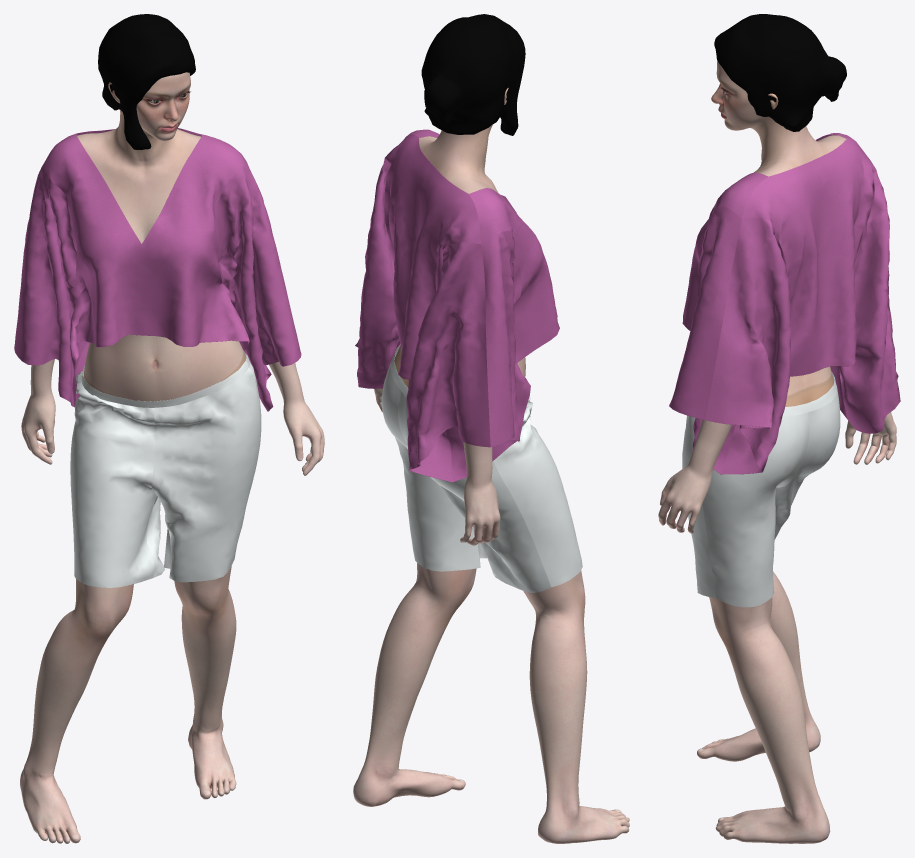
Rendered from Custom_View_6__FV2_05.obj.
3 renders of one model, left to right at view 1: azimuth 30°, elevation 25°; view 2: azimuth 150°, elevation 25°; view 3: azimuth 270°, elevation 25°, orthographic. The views are drawn at different scales.
Size of the model in its own units: 612 by 1724 by 478.
